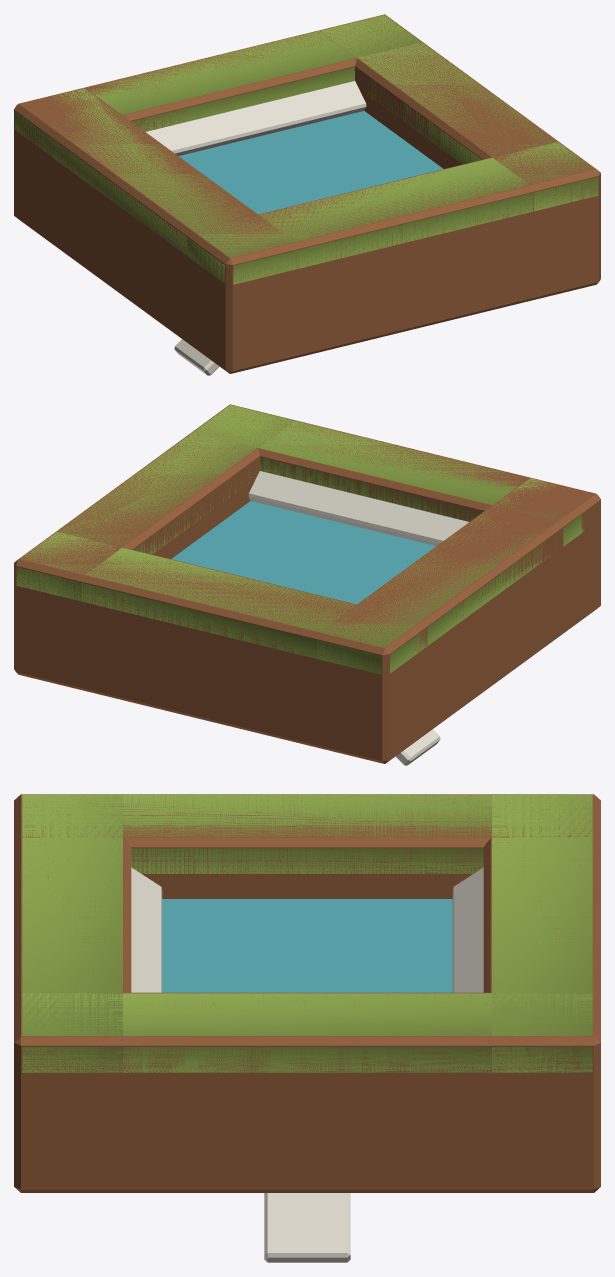
File: tile_grass_pond_edge.glb
3 renders of one model, top to bottom at view 1: azimuth 30°, elevation 25°; view 2: azimuth 150°, elevation 25°; view 3: azimuth 270°, elevation 25°, orthographic. The views are drawn at different scales.
Parts seen in each view (by area): view 1: gp_rim0, gp_rim2, gp_rim3, gp_body, gp_cap0, WaterSurface, gp_cap1, gp_cap2, gp_cap3, gp_rim1, gp_slope1, gp_slope2; view 2: gp_rim1, gp_rim2, gp_body, gp_cap1, gp_rim3, WaterSurface, gp_cap0, gp_rim0, gp_cap3, gp_cap2, gp_slope0, gp_slope2; view 3: gp_rim3, gp_cap3, gp_body, WaterSurface, gp_cap0, gp_cap1, gp_cap2, gp_rim2, gp_rim1, gp_rim0, gp_slope3, gp_slope0 (+1 smaller).
Part boxes in pixels (<box>): gp_rim0: <box>187,147,600,372</box>; gp_rim2: <box>14,87,298,373</box>; gp_rim3: <box>319,14,598,300</box>; gp_body: <box>14,179,600,373</box>; gp_cap0: <box>188,142,598,284</box>; WaterSurface: <box>179,111,443,214</box>; gp_cap1: <box>14,15,421,155</box>; gp_cap2: <box>15,88,297,283</box>; gp_cap3: <box>320,15,598,211</box>; gp_rim1: <box>14,14,422,244</box>; gp_slope1: <box>146,81,366,155</box>; gp_slope2: <box>174,339,219,375</box>; gp_rim1: <box>14,534,427,761</box>; gp_rim2: <box>316,477,600,763</box>; gp_body: <box>14,569,600,763</box>; gp_cap1: <box>16,532,426,674</box>; gp_rim3: <box>16,404,295,690</box>; WaterSurface: <box>171,501,435,604</box>; gp_cap0: <box>193,405,584,546</box>; gp_rim0: <box>192,404,600,634</box>; gp_cap3: <box>16,405,294,600</box>; gp_cap2: <box>317,478,563,674</box>; gp_slope0: <box>248,471,468,545</box>; gp_slope2: <box>395,729,440,765</box>; gp_rim3: <box>14,992,600,1189</box>; gp_cap3: <box>22,993,592,1072</box>; gp_body: <box>14,1137,600,1192</box>; WaterSurface: <box>162,899,452,992</box>; gp_cap0: <box>22,795,122,1072</box>; gp_cap1: <box>492,795,592,1072</box>; gp_cap2: <box>22,795,592,873</box>; gp_rim2: <box>14,794,600,898</box>; gp_rim1: <box>483,794,600,1192</box>; gp_rim0: <box>14,794,131,1192</box>; gp_slope3: <box>264,1193,350,1262</box>; gp_slope0: <box>131,867,162,992</box>.
Size of the model in its own units: 1.7 by 0.8703 by 1.7.
